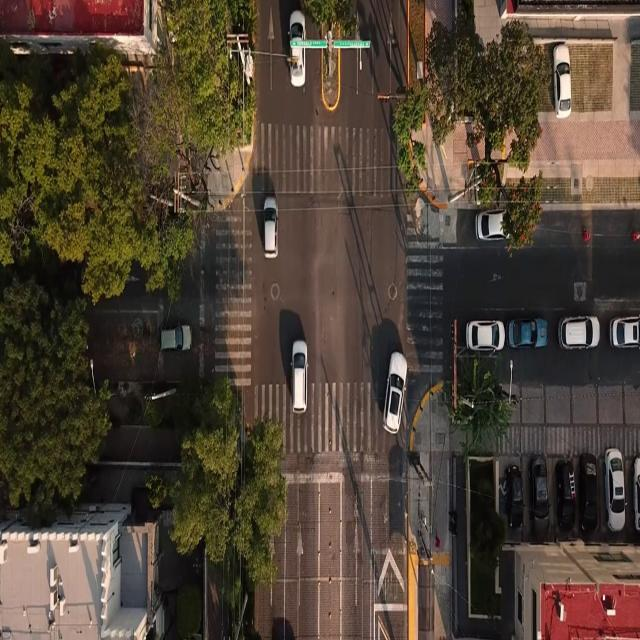car: (383, 352, 407, 433), (604, 448, 625, 531), (529, 455, 549, 539), (579, 454, 598, 532), (556, 459, 575, 531), (553, 44, 571, 118), (559, 317, 599, 349), (289, 10, 305, 87), (466, 320, 505, 351), (507, 319, 547, 348), (505, 465, 523, 528), (292, 341, 307, 413), (610, 317, 639, 347), (476, 210, 506, 239), (264, 196, 278, 258), (160, 325, 191, 351), (633, 457, 639, 532)
